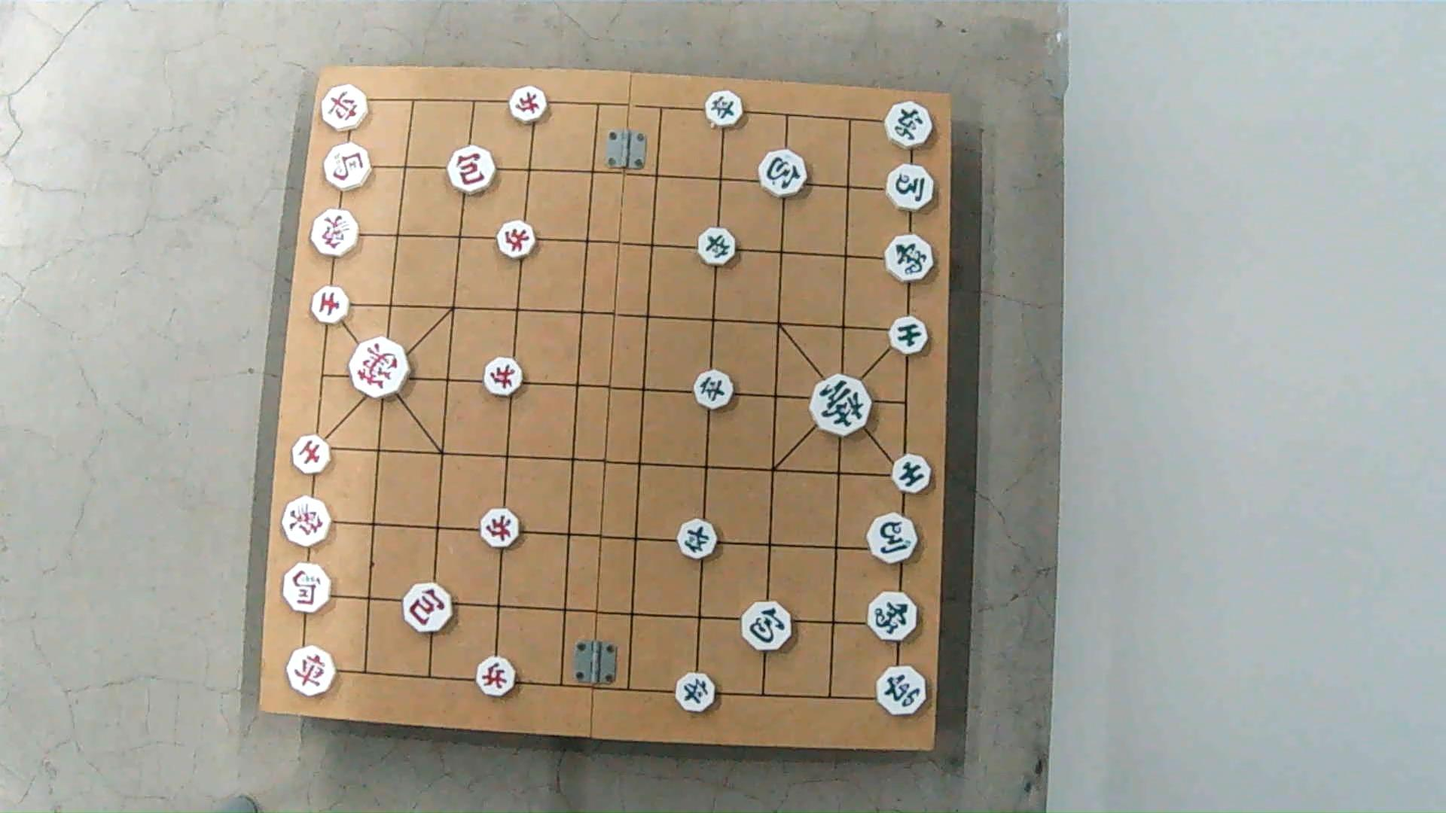cha_green: (872, 665, 933, 718), (883, 102, 935, 148)
cha_red: (289, 647, 340, 693), (319, 86, 368, 129)
jol_green: (672, 678, 717, 714), (690, 372, 736, 407), (679, 522, 722, 559), (696, 230, 739, 263), (704, 93, 745, 126)
jol_red: (474, 659, 517, 696), (479, 512, 521, 548), (483, 361, 526, 394), (494, 224, 536, 257), (510, 88, 551, 121)
ma_green: (862, 513, 921, 562), (885, 166, 937, 209)
ma_red: (285, 565, 334, 611), (323, 145, 374, 188)
po_green: (743, 598, 795, 650), (758, 150, 813, 197)
po_red: (400, 585, 451, 632), (448, 151, 499, 193)
sa_green: (889, 454, 936, 496), (886, 315, 930, 352)
sa_red: (308, 287, 353, 324), (292, 437, 336, 473)
sang_green: (863, 590, 920, 644), (884, 233, 936, 284)
sang_red: (282, 495, 336, 547), (308, 212, 359, 255)
wang_green: (812, 374, 875, 433)
wang_red: (350, 343, 414, 396)
